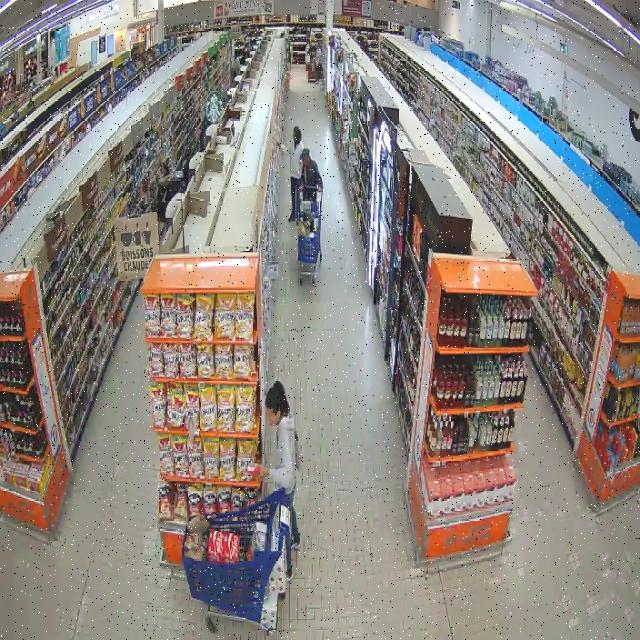article: (246, 463, 261, 475)
hands: (259, 465, 269, 477), (276, 138, 282, 147), (299, 183, 304, 192), (318, 186, 322, 193)
person: (254, 380, 299, 579), (280, 127, 304, 220), (303, 149, 323, 198)
